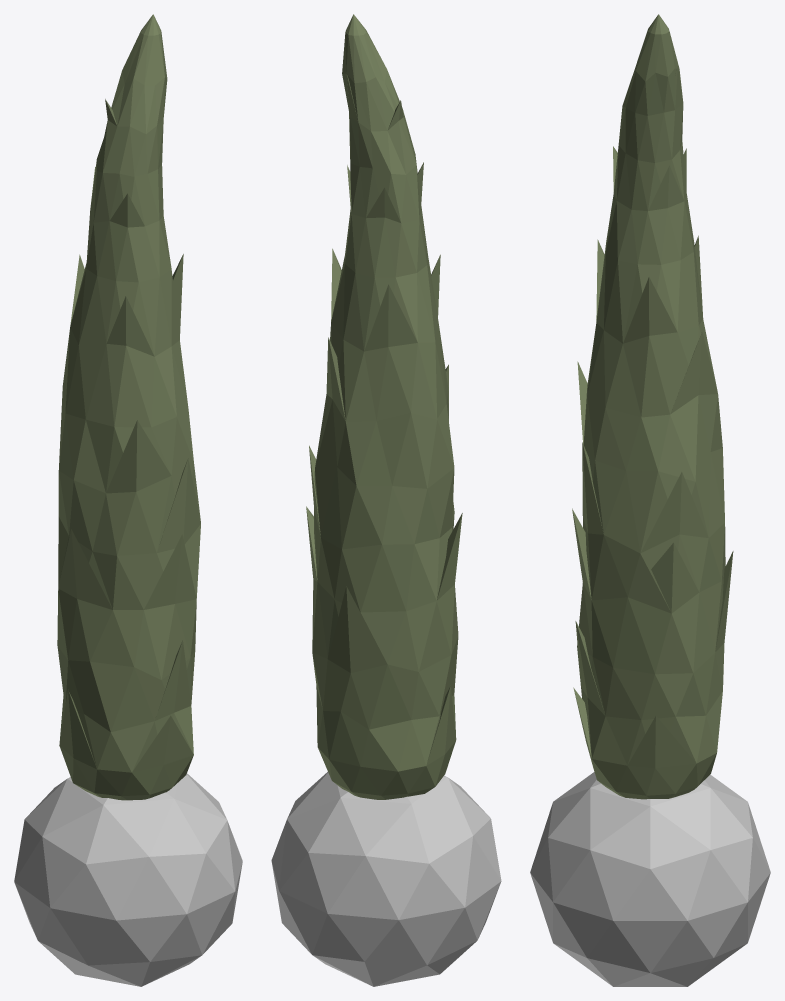
File: cypress.glb
3 renders of one model, left to right at view 1: azimuth 30°, elevation 25°; view 2: azimuth 150°, elevation 25°; view 3: azimuth 270°, elevation 25°, orthographic. The views are drawn at different scales.
Visible parts, largest first — view 1: cypress.001; view 2: cypress.001; view 3: cypress.001.
Boxes of the visible parts, bbox=[...] form: cypress.001: bbox=[14, 14, 242, 986]; cypress.001: bbox=[271, 14, 501, 986]; cypress.001: bbox=[530, 14, 770, 986].
Size of the model in its own units: 1.71 by 8.1 by 1.8.
